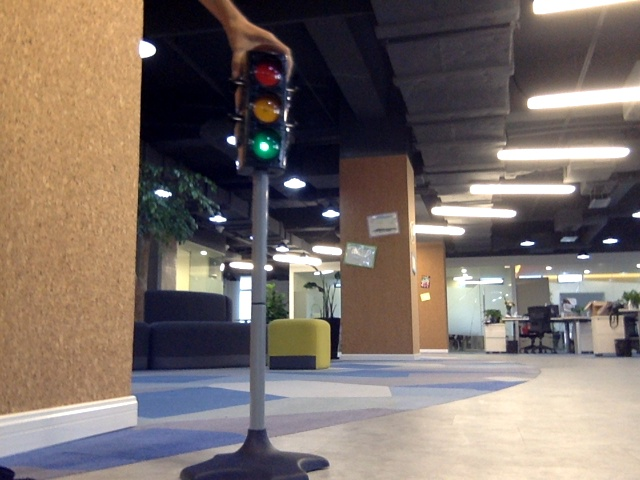green: (246, 58, 282, 165)
